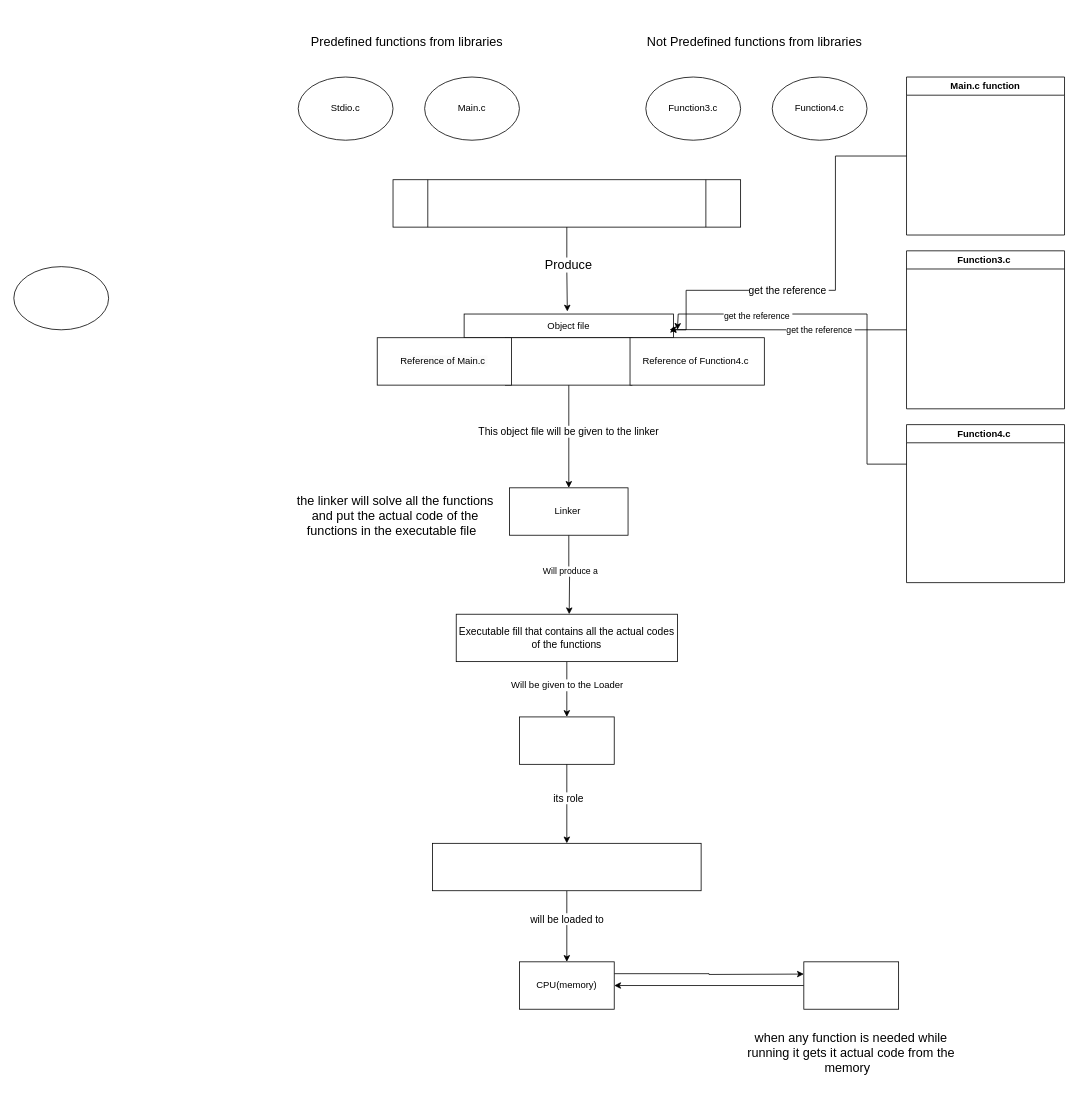
Some shapes in this 1078 by 1093 pixel diagram are drawn without their labels. The shapes that lost their labels are listed below. From the top down, each one's centre as x and y in pixels, then its label:
At point 566,203: "Compiler".
At point 568,361: "Reference of Function3.c".
At point 566,740: "Loader".
At point 566,867: "will load the executable file that have all the actual codes of the functions".
At point 851,985: "Execution".
